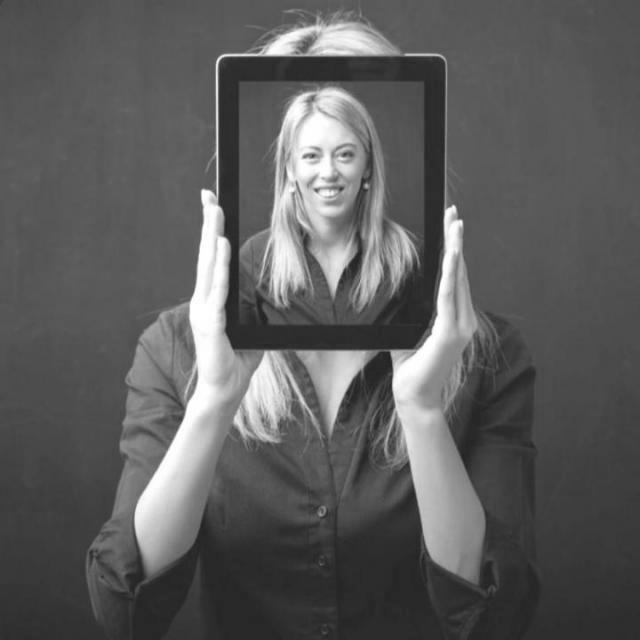fake: (212, 51, 450, 353)
